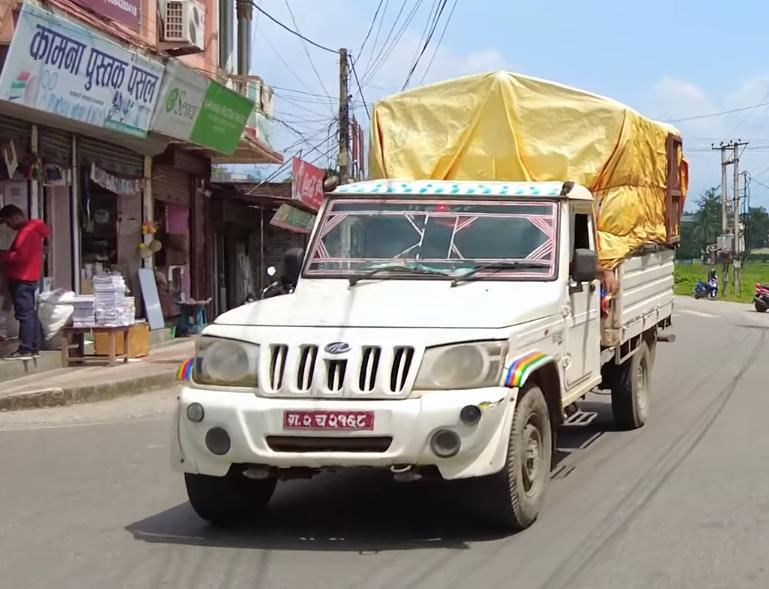scooter: (693, 264, 722, 306)
transport_vehicle: (162, 63, 684, 542)
